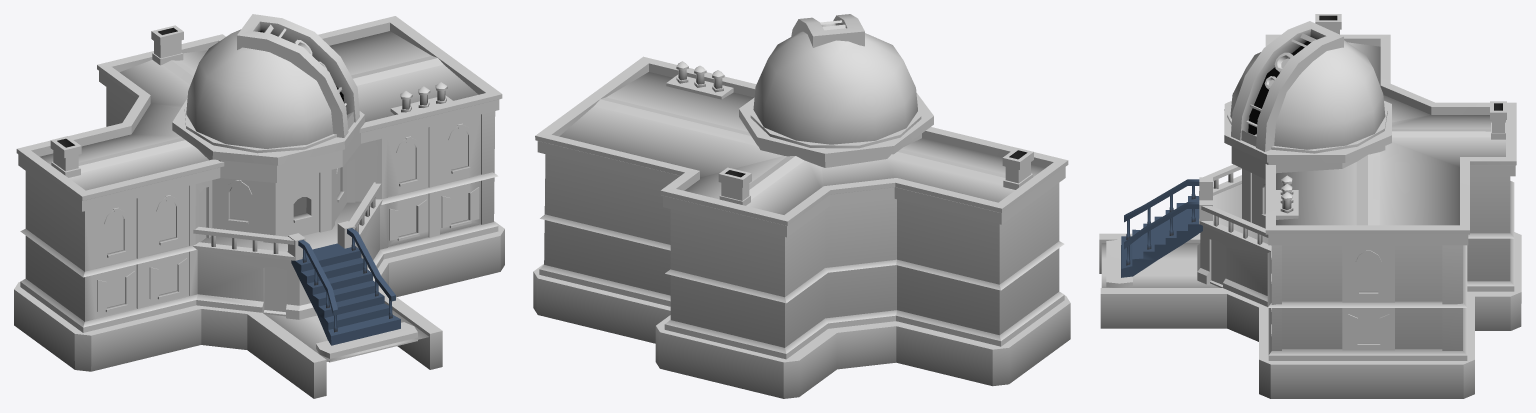
The model's file is env_observatory_a_mesh.fbx.
3 renders of one model, left to right at view 1: azimuth 30°, elevation 25°; view 2: azimuth 150°, elevation 25°; view 3: azimuth 270°, elevation 25°, orthographic. The views are drawn at different scales.
Parts seen in each view (by area): view 1: SubMesh_0.016; view 2: SubMesh_0.016; view 3: SubMesh_0.016.
Part boxes in pixels (<box>): SubMesh_0.016: <box>14,14,504,398</box>; SubMesh_0.016: <box>533,14,1070,398</box>; SubMesh_0.016: <box>1099,14,1521,398</box>.
Size of the model in its own units: 5.87 by 5.22 by 3.59.
